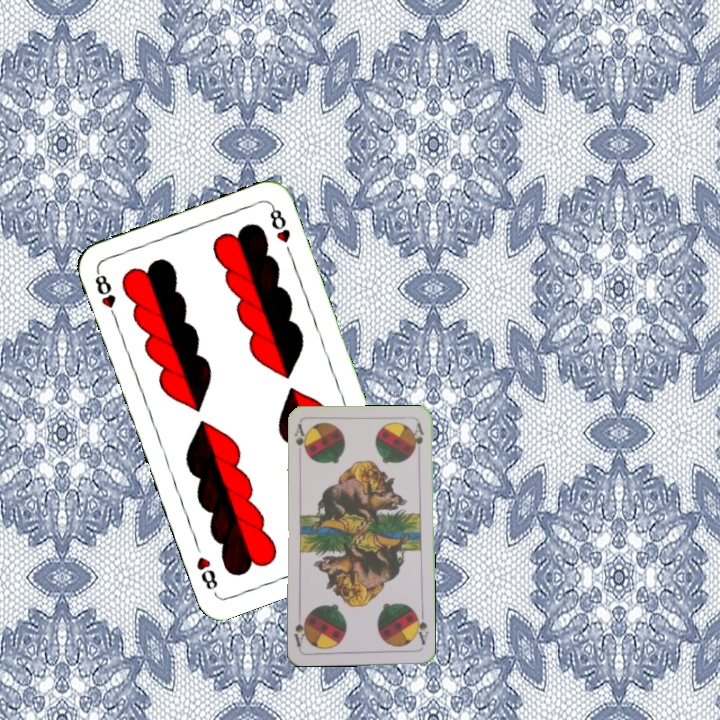H8: (91, 266, 120, 324)
SA: (411, 609, 431, 647), (290, 421, 309, 458)
